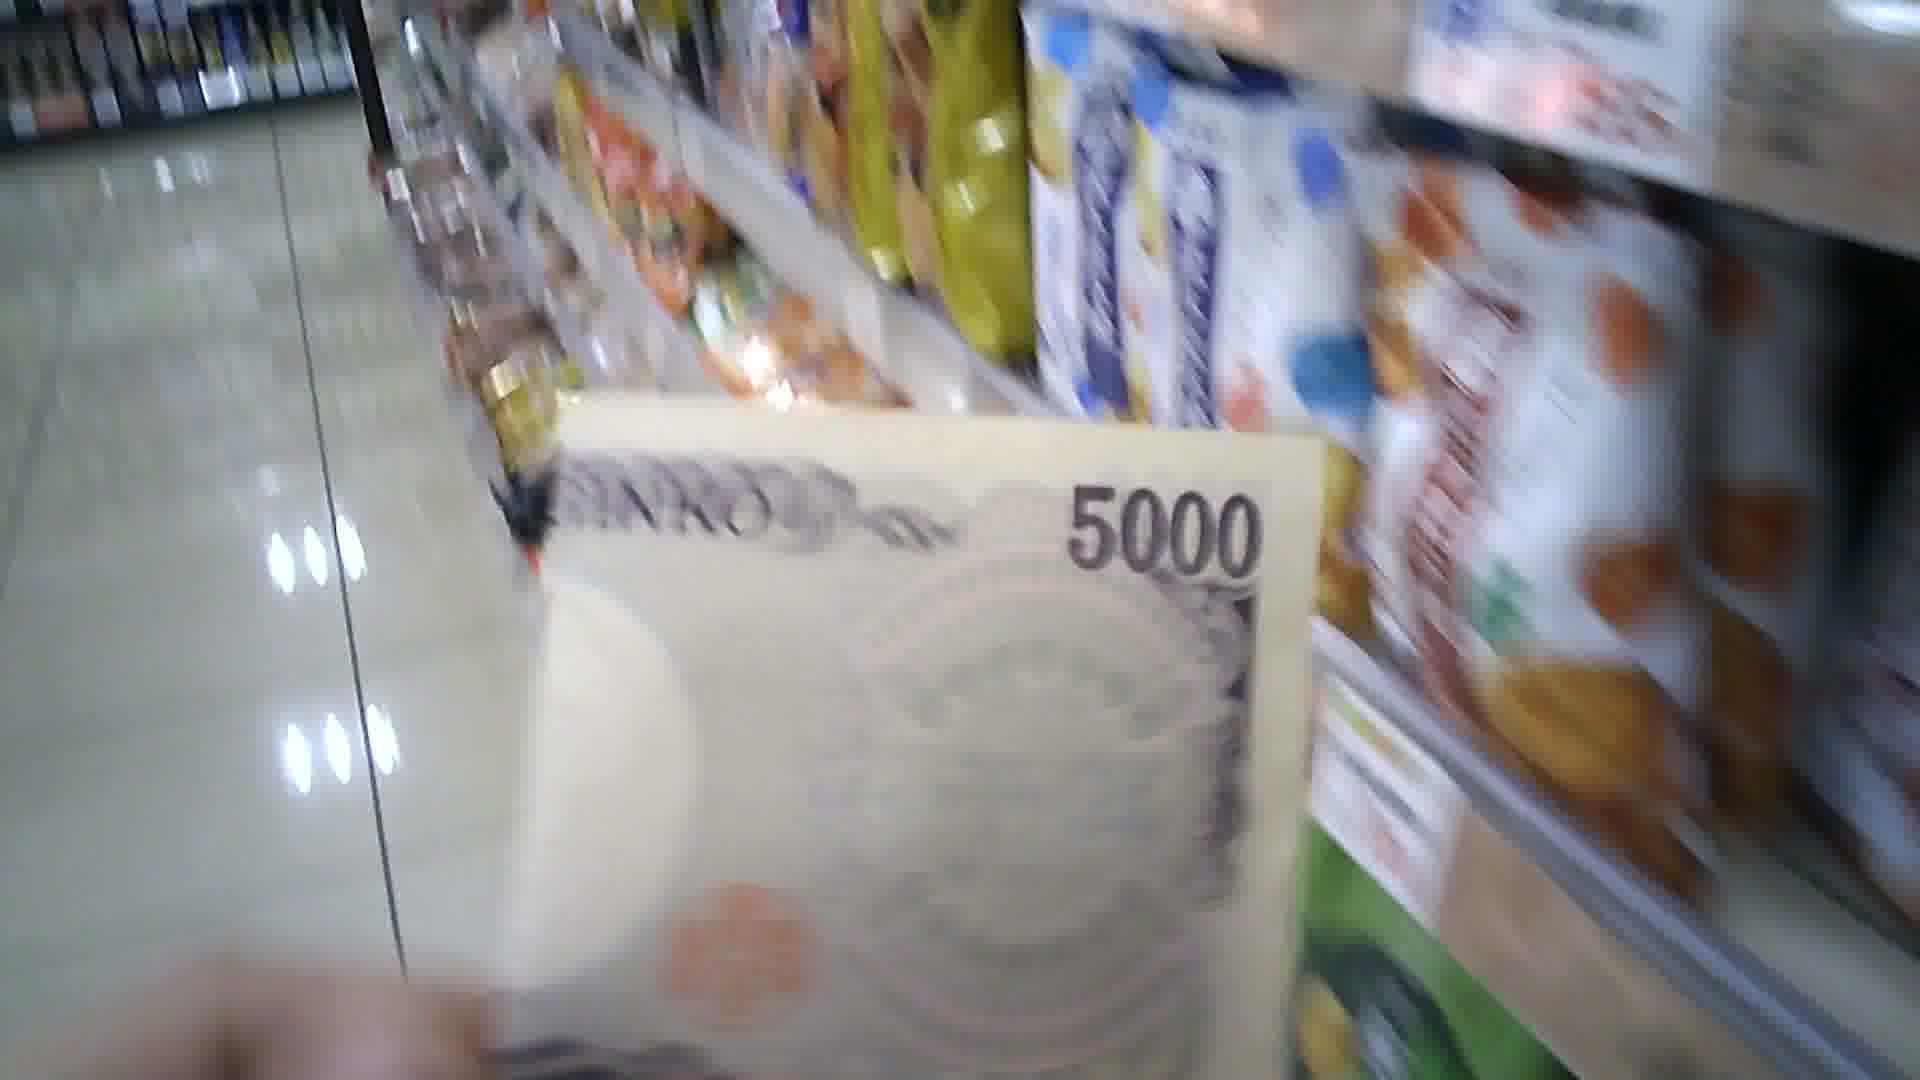5,000 Yen: (508, 378, 1329, 1073)
